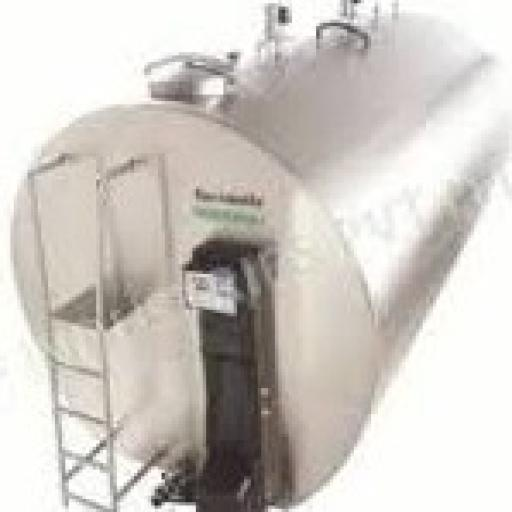silo: (10, 0, 508, 506)
